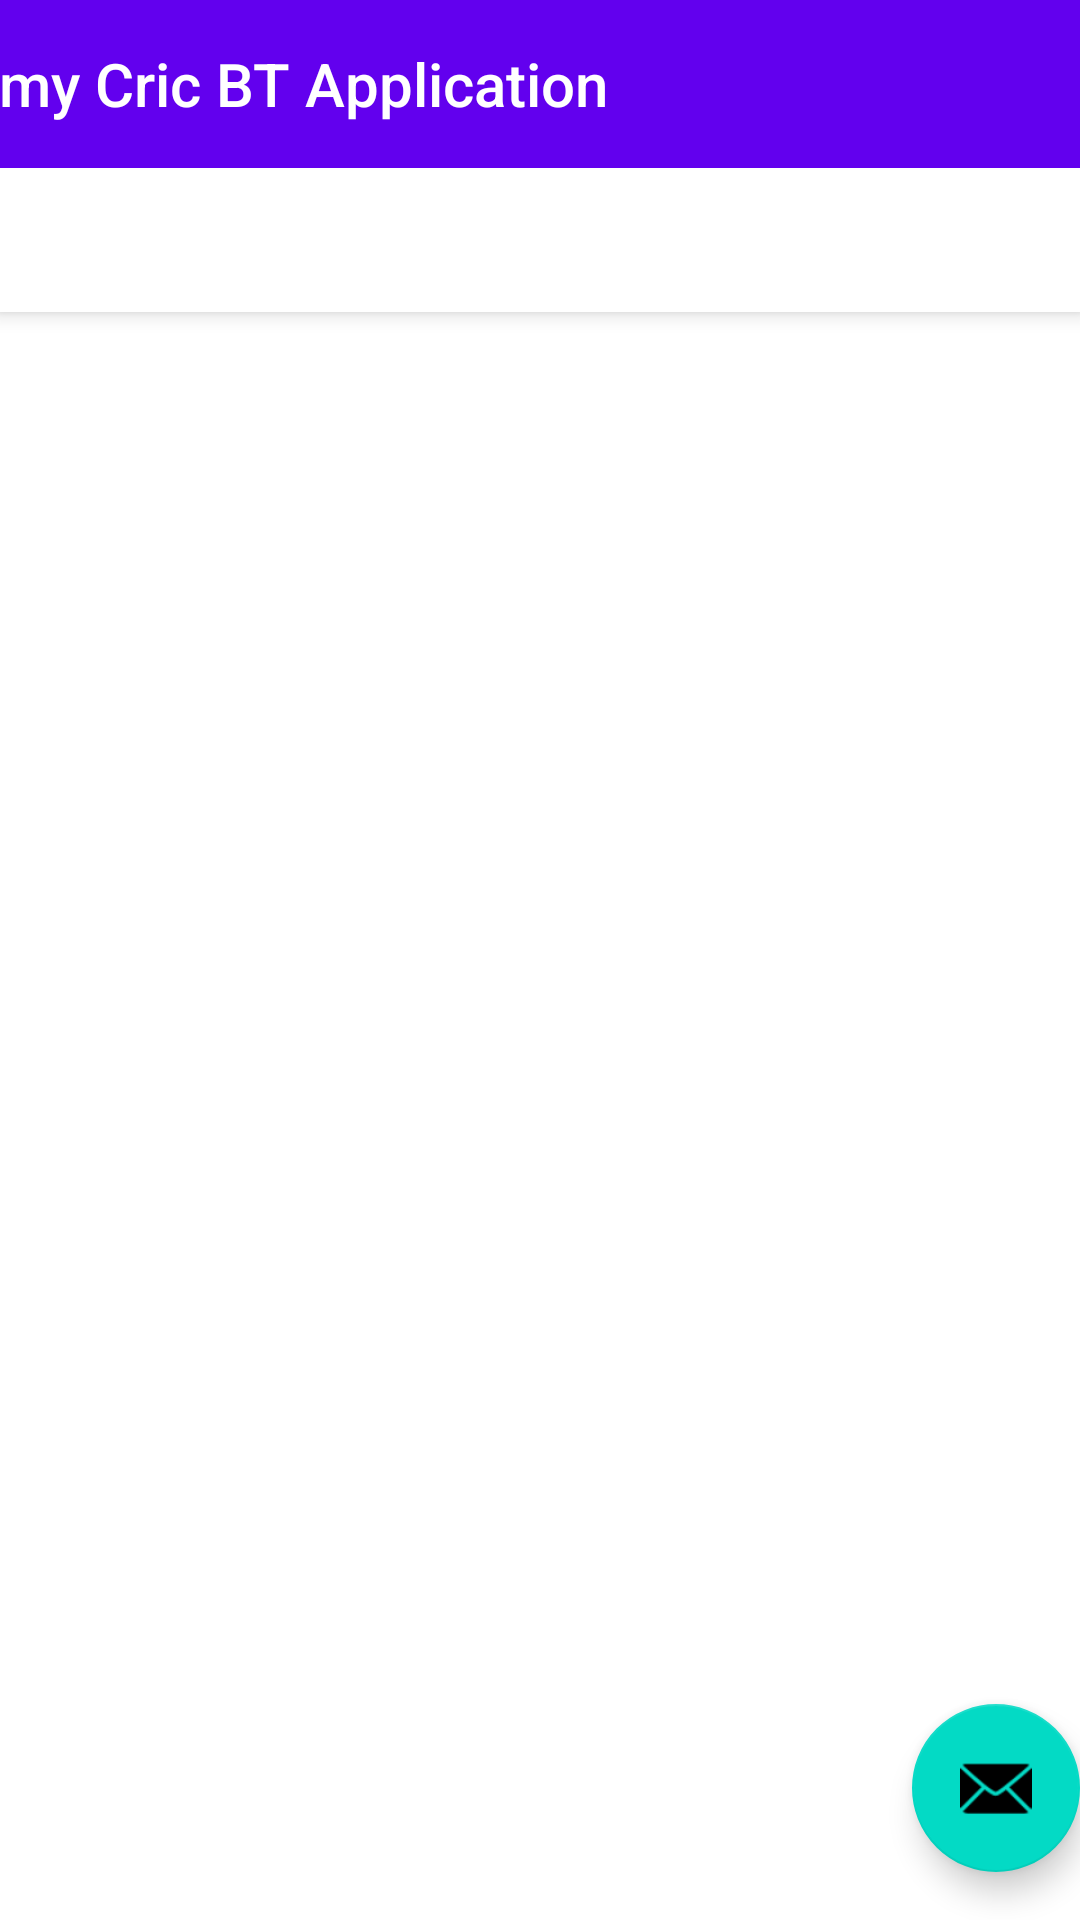

Named icons in this screenshot (1080px×1920px) and their bounding boxes, (x1, y1, x2, y2):
email: (912, 1704, 1080, 1872)
